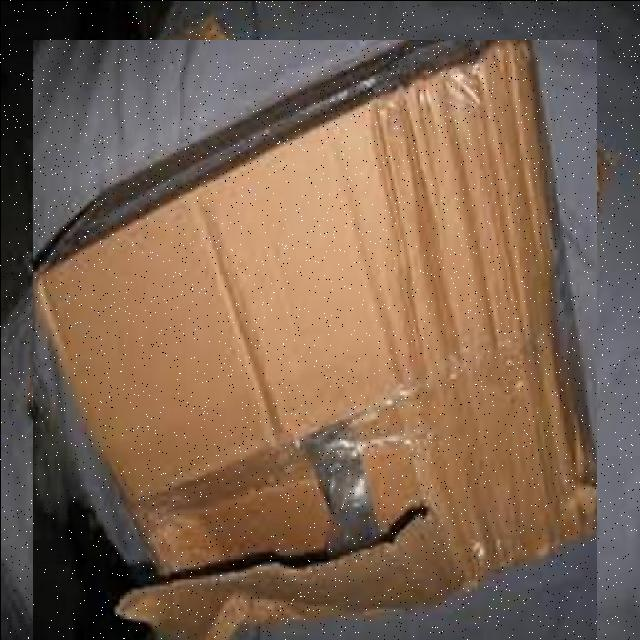defect: (32, 39, 596, 638)
